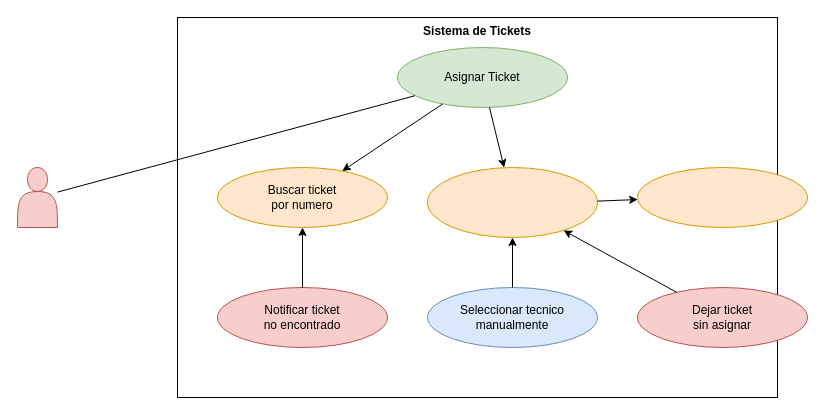
This 825x415 diagram has some shape labels left out. The centre of each missing label's shape, as x and y in pixels:
"Buscar tecnico con menor carga por especialidad" belongs at pixel 512 202.
"Gestor de Tickets" belongs at pixel 37 197.
"Registrar asignacion en bitacora" belongs at pixel 722 197.
